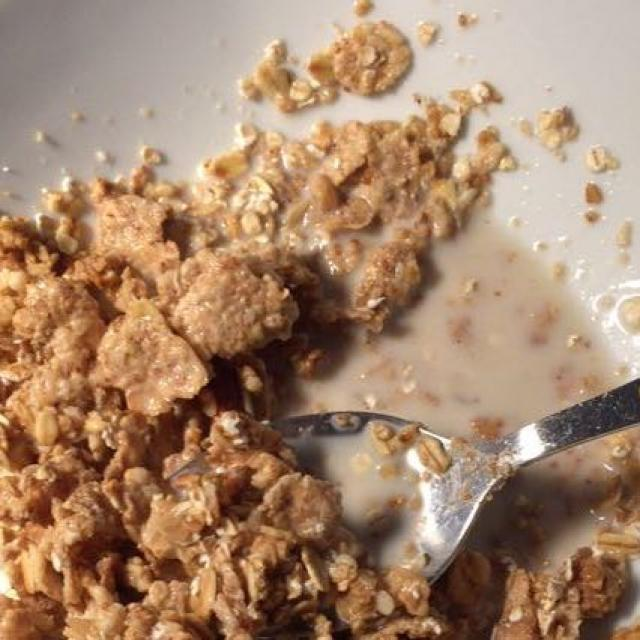milk: (290, 213, 626, 552)
muesli: (8, 35, 629, 632)
